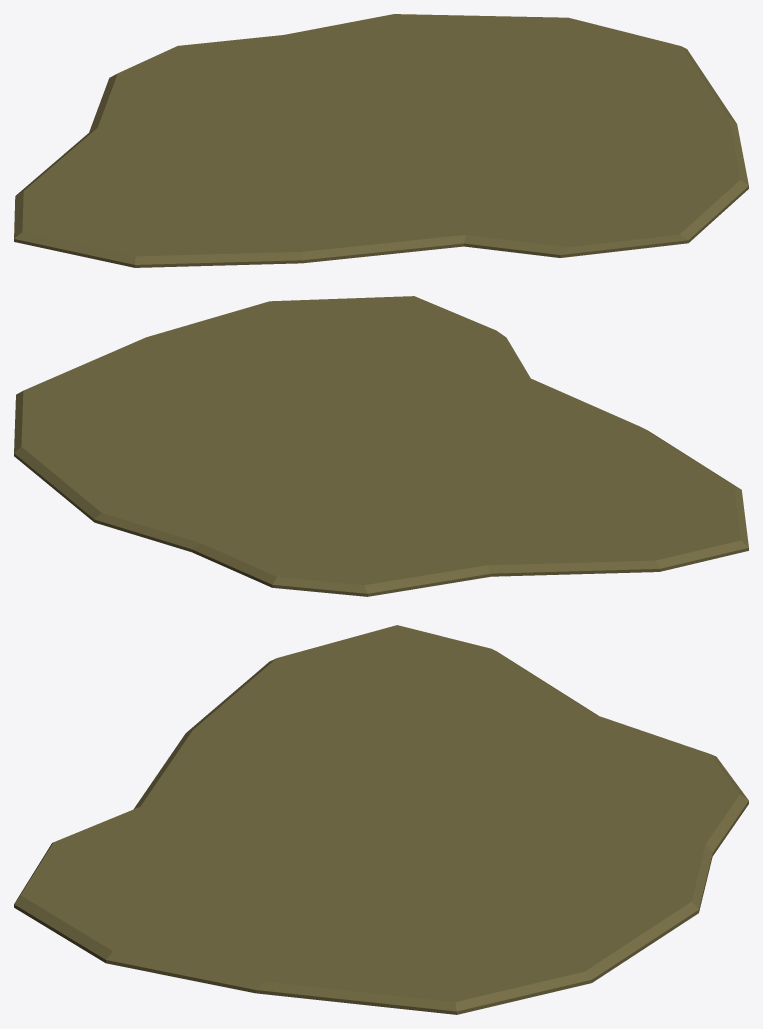
File: RoundSpot.fbx
3 views of the same model, one above another, from view 1: azimuth 30°, elevation 25°; view 2: azimuth 150°, elevation 25°; view 3: azimuth 270°, elevation 25° (orthographic). The views are drawn at different scales.
Visible parts, largest first — view 1: Cube.329; view 2: Cube.329; view 3: Cube.329.
Boxes of the visible parts, x1,y1,x2,y2 form: Cube.329: (14, 14, 748, 267); Cube.329: (14, 296, 748, 596); Cube.329: (14, 625, 748, 1014).
Size of the model in its own units: 1455 by 16.18 by 1174.
